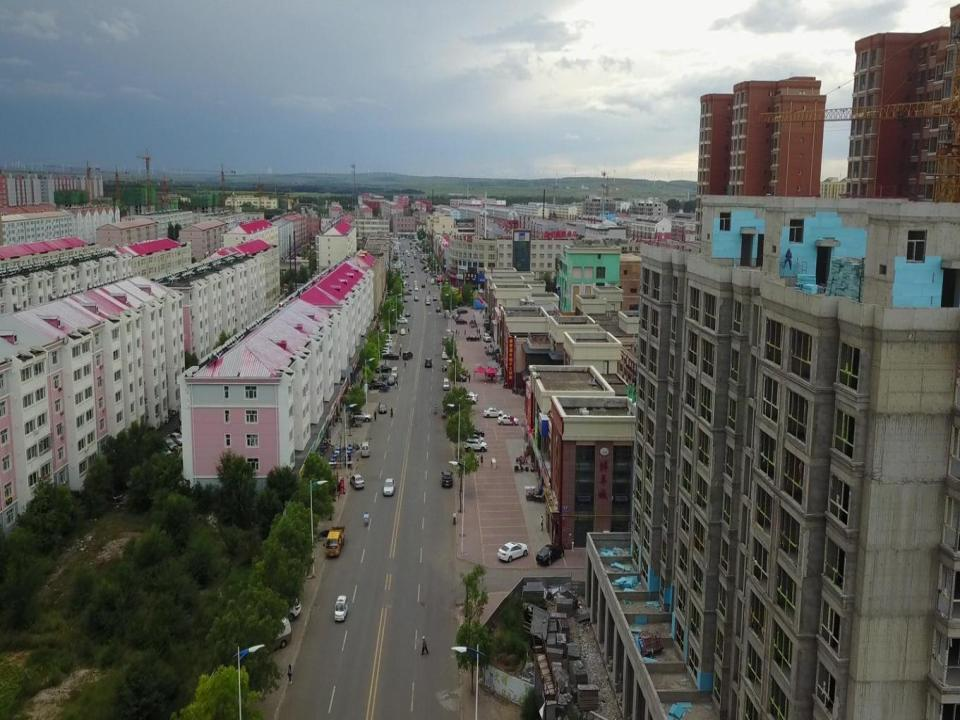car: (262, 591, 301, 621), (498, 540, 528, 562), (536, 543, 564, 566), (463, 439, 488, 452), (462, 424, 485, 436), (350, 411, 373, 422), (497, 414, 518, 426), (483, 406, 504, 418), (464, 434, 485, 445), (383, 478, 395, 496), (350, 474, 364, 489), (441, 470, 453, 487), (374, 364, 391, 373), (383, 351, 399, 360), (360, 442, 370, 456), (378, 401, 387, 414), (443, 376, 450, 390), (466, 334, 480, 341), (424, 357, 432, 368), (397, 316, 408, 324), (440, 350, 449, 359), (387, 375, 395, 385), (456, 318, 467, 325), (483, 333, 491, 342), (442, 336, 448, 344), (425, 299, 431, 306), (405, 310, 411, 317), (400, 328, 405, 335), (458, 310, 466, 314), (414, 296, 419, 301), (403, 298, 408, 302), (426, 296, 430, 301), (433, 295, 437, 300), (436, 307, 440, 312), (414, 286, 418, 291), (411, 268, 414, 273), (421, 284, 425, 287), (410, 264, 414, 266)
truck: (324, 524, 344, 558)
van: (239, 618, 292, 654), (335, 595, 347, 622), (402, 350, 413, 361), (391, 366, 398, 378), (414, 280, 418, 286), (431, 278, 434, 284)
